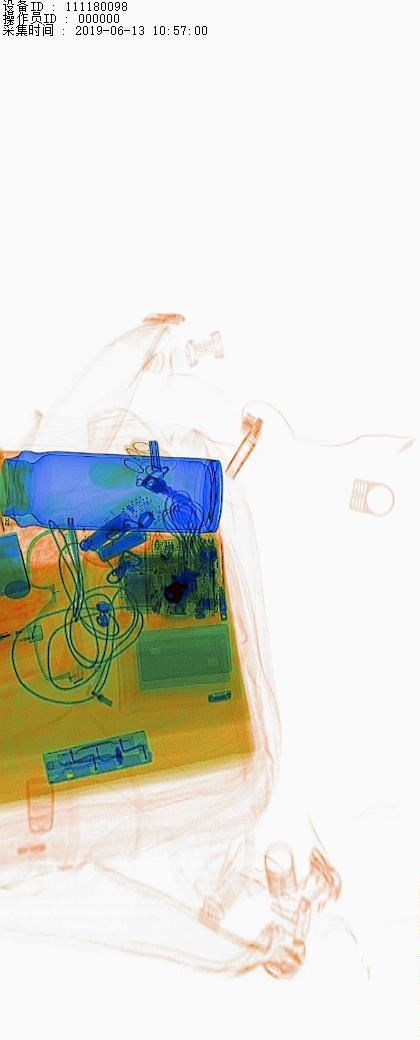NonmetallicFire: (0, 611, 68, 674)
